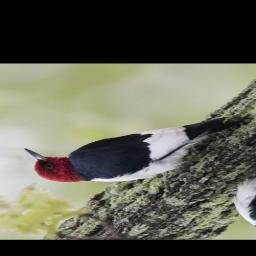Woodpecker: (0, 77, 256, 209)
